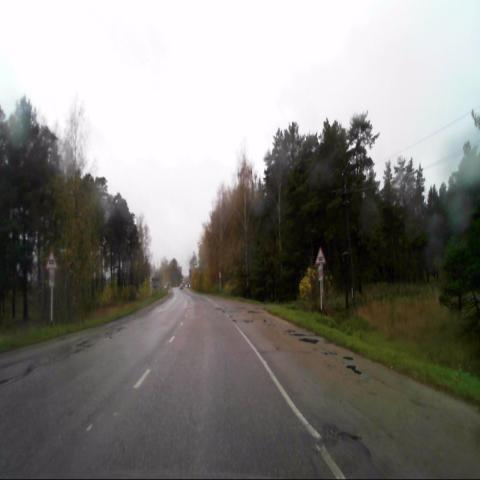1_1: (45, 250, 58, 269)
